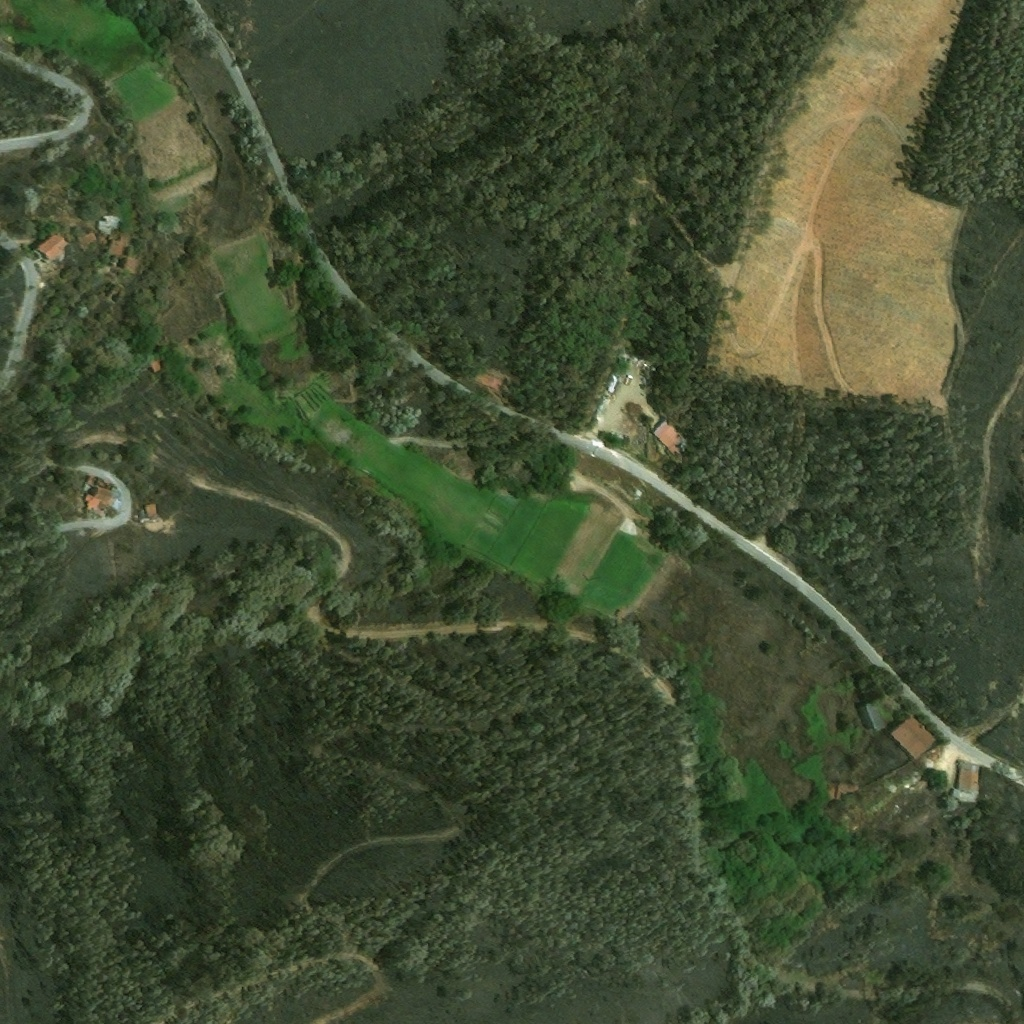0 no-damage: (888, 714, 939, 759), (652, 418, 692, 455), (78, 475, 113, 512), (953, 763, 980, 803), (101, 240, 133, 272), (34, 233, 67, 262), (860, 701, 887, 733), (821, 782, 861, 801), (94, 214, 121, 233), (76, 230, 97, 248), (146, 359, 160, 374), (143, 502, 154, 515)
